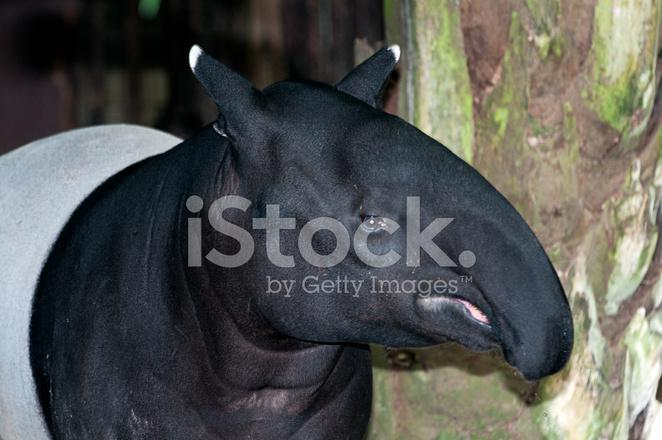Anta: (13, 40, 584, 419)
